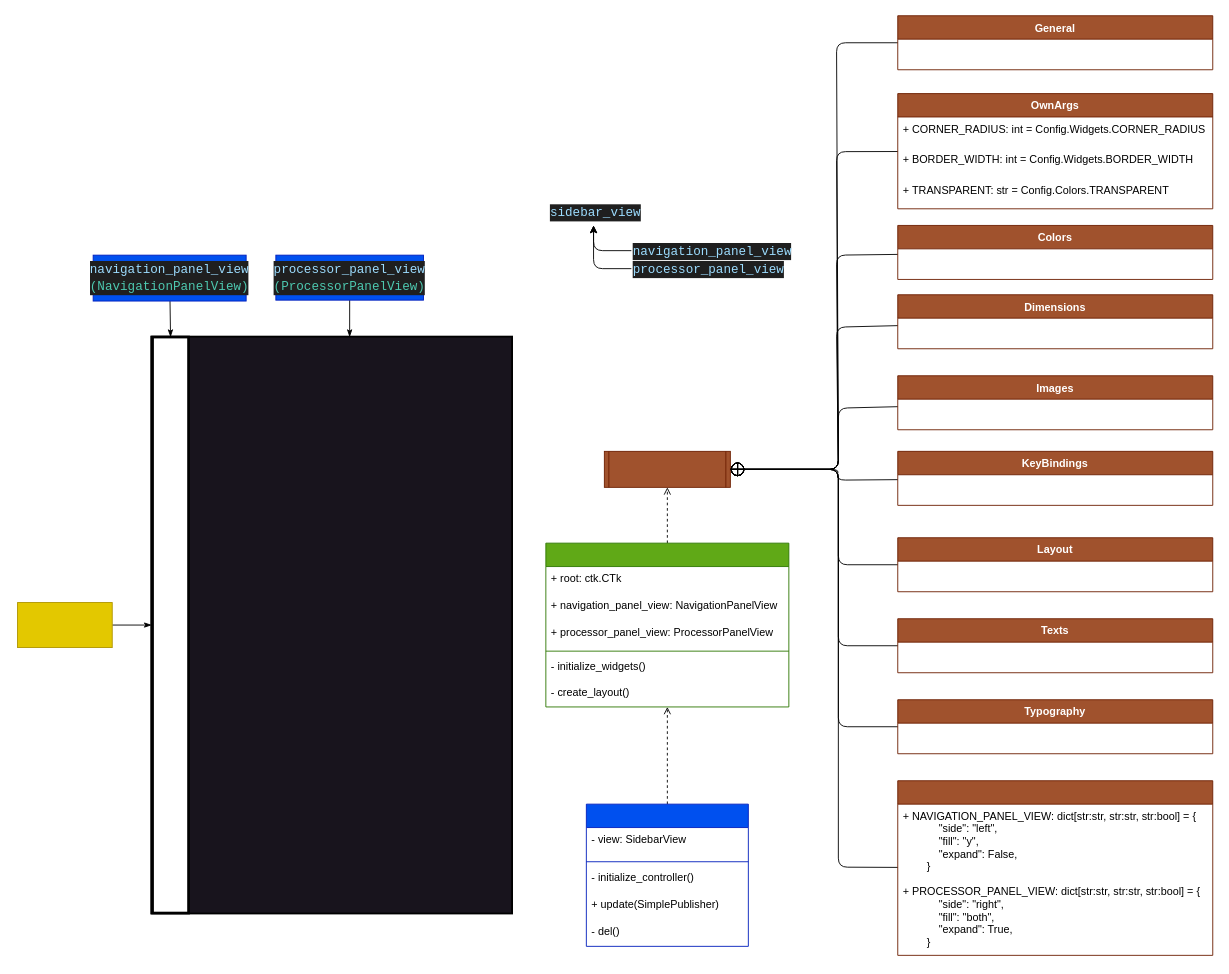
This 1229x974 diagram has some shape labels left out. The shapes that lost their labels are listed below. From the top down, each one's box as (x1, y1, x2, y2) in pixels, then its label:
(603, 450, 730, 487): SidebarConfig
(17, 602, 112, 648): sidebar_view ( SidebarView )
(545, 542, 789, 707): SidebarView
(585, 803, 748, 946): SidebarController
(897, 780, 1213, 955): Widgets
